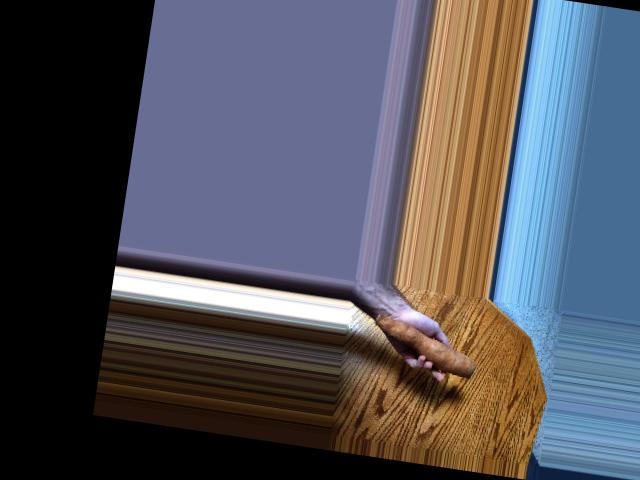sweet_potato: (365, 310, 481, 381)
